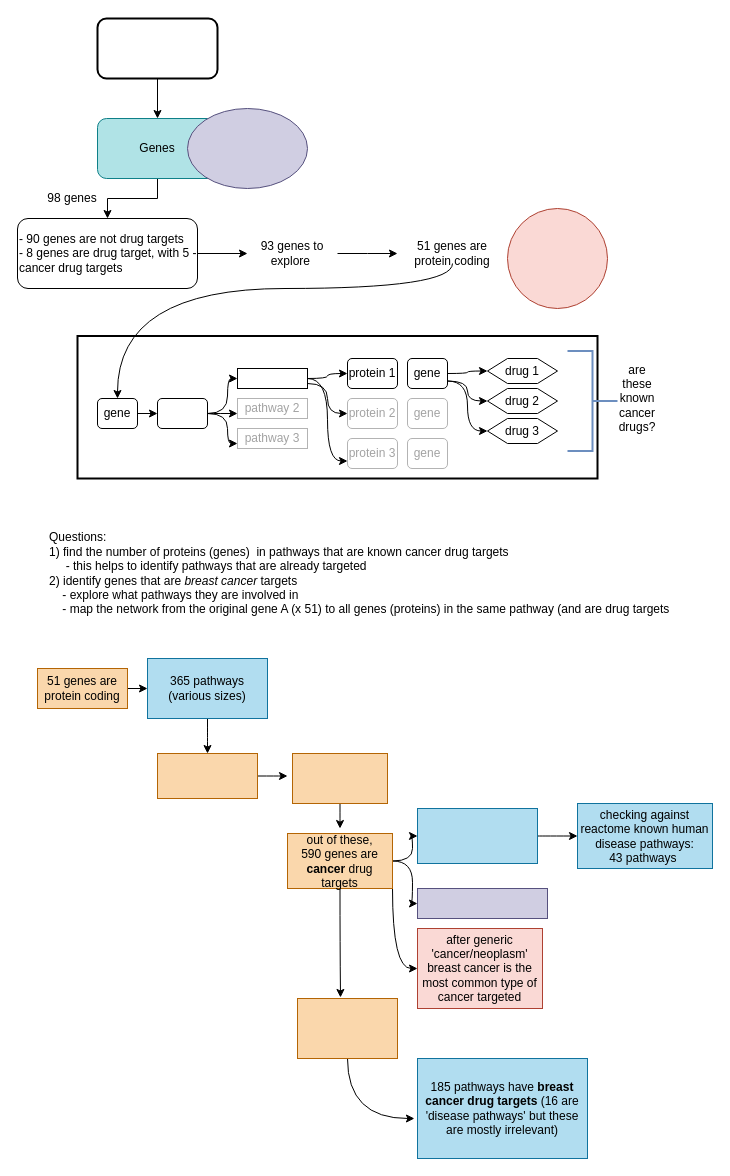
Some shapes in this 730 by 1176 pixel diagram are drawn without their labels. Each missing label, with the box of its shape:
1-51 drugs per gene: (416, 888, 548, 918)
299 pathways remain (i.e. have cancer drug targets): (416, 808, 538, 864)
BC GWAS significant variants: (96, 17, 218, 79)
Expressed in breast tissue at >1TPM: (186, 108, 308, 188)
Idea: find out if their pathway member are (breast) cancer targets: (506, 208, 608, 308)
involve 10,220 genes: (156, 752, 258, 798)
out of these, 1069 genes are drug targets: (292, 752, 388, 804)
out of these, 138 genes are breast cancer drug targets: (296, 998, 398, 1058)
pathway 1: (236, 368, 308, 388)
protein: (156, 398, 208, 428)
